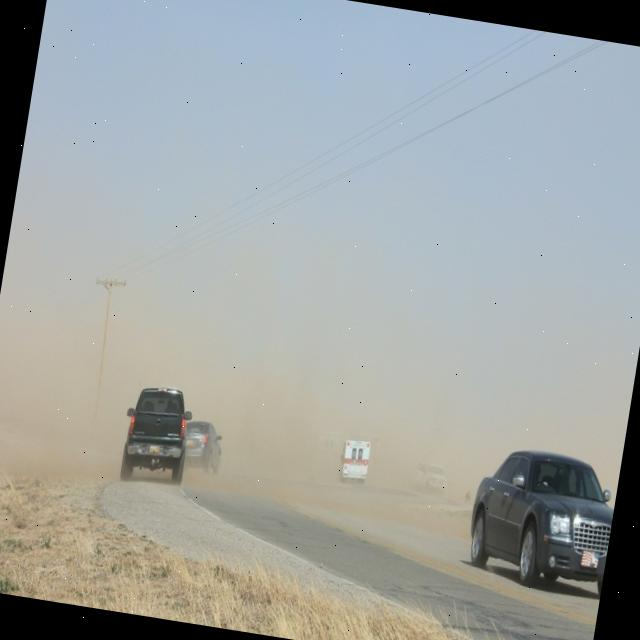bus: (119, 381, 196, 486)
car: (459, 442, 622, 598), (179, 418, 227, 474), (312, 430, 344, 479), (338, 440, 372, 486), (416, 462, 450, 496)
